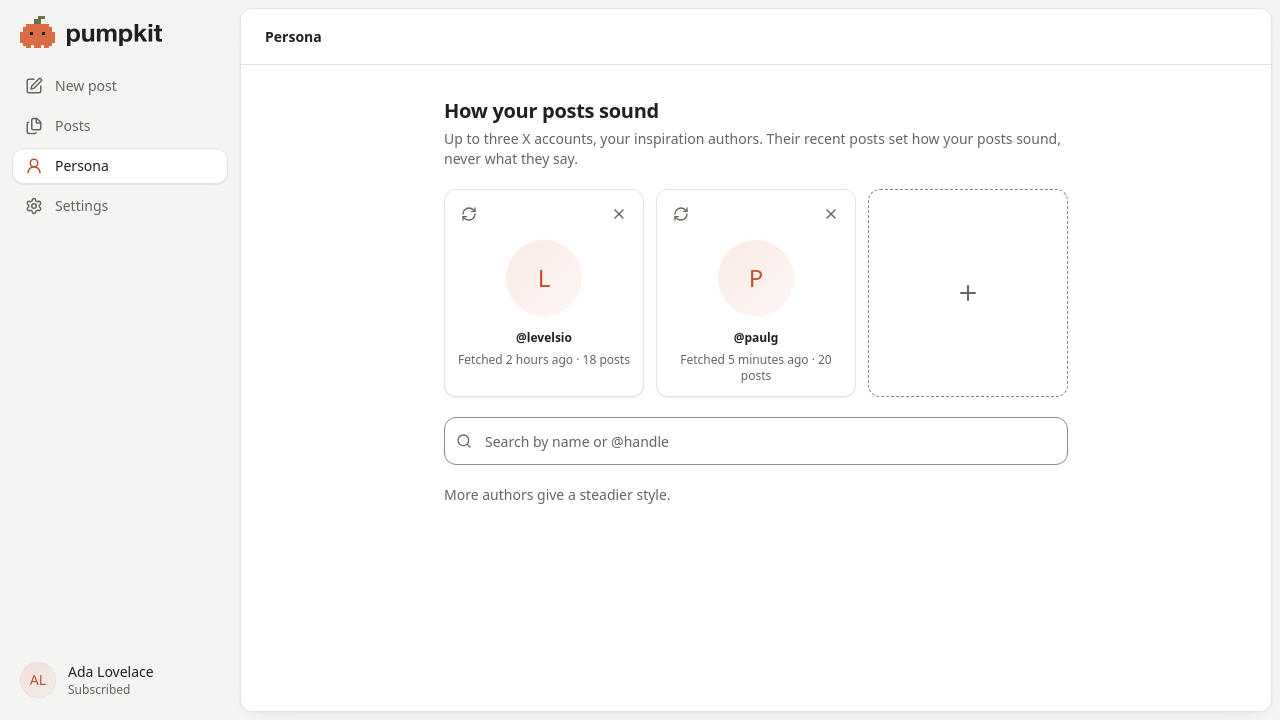
Persona › the slots › refreshes an author and shows its new fetch time and post count
Click the button named "Refresh @levelsio". click: (469, 214)
box: [449,194,489,234]
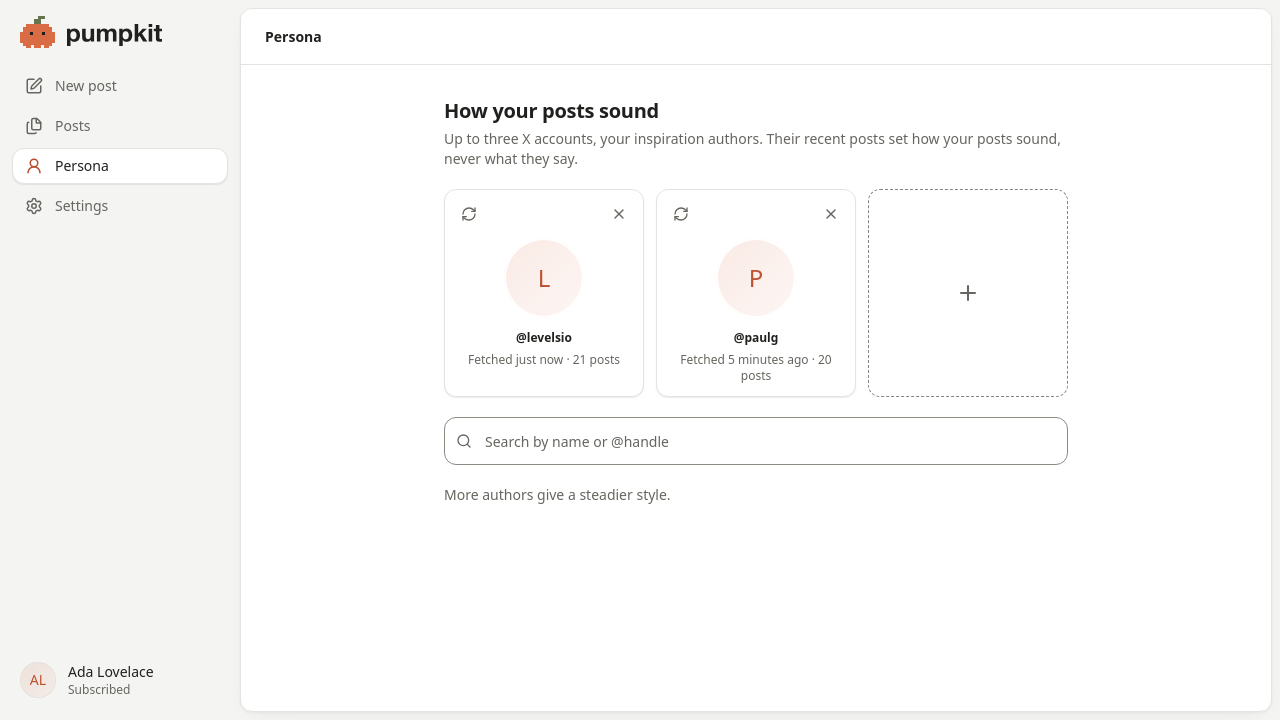
expect the text "Fetched just now · 21 posts" is shown: met, box [457,348,631,368]
